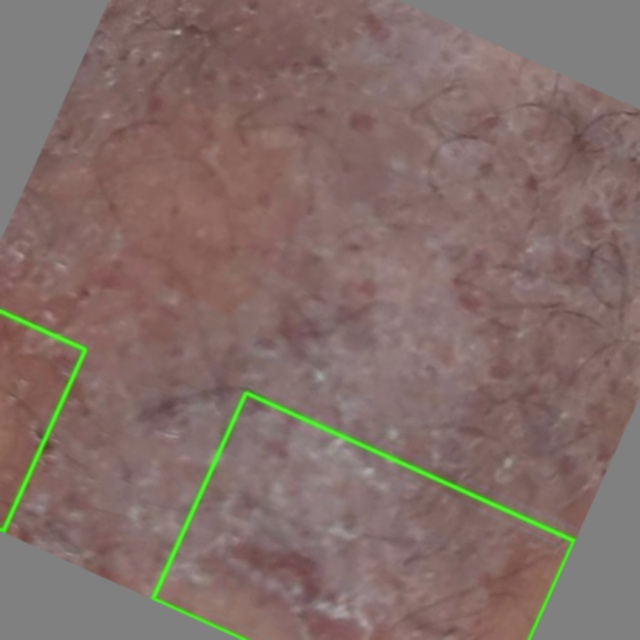Eczema: (153, 393, 574, 639)
